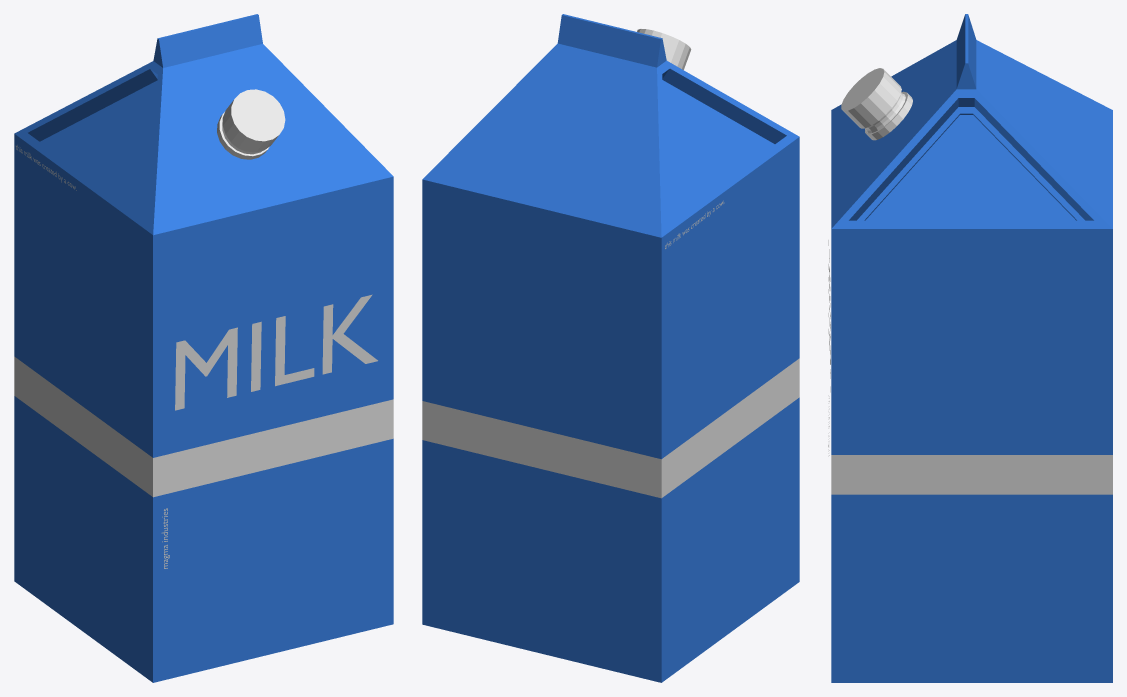
Rendered from milk.fbx.
3 renders of one model, left to right at view 1: azimuth 30°, elevation 25°; view 2: azimuth 150°, elevation 25°; view 3: azimuth 270°, elevation 25°, orthographic.
Visible parts, largest first — view 1: Cube.002, Text, Cylinder; view 2: Cube.002, Cylinder; view 3: Cube.002, Cylinder.
Boxes of the visible parts, <box> form: Cube.002: <box>14,14,393,682</box>; Text: <box>175,294,377,410</box>; Cylinder: <box>217,89,285,159</box>; Cube.002: <box>422,14,799,682</box>; Cylinder: <box>637,29,691,69</box>; Cube.002: <box>831,14,1112,682</box>; Cylinder: <box>841,68,912,140</box>.
Bounding box in the file's own units: 164 × 374 × 165.
